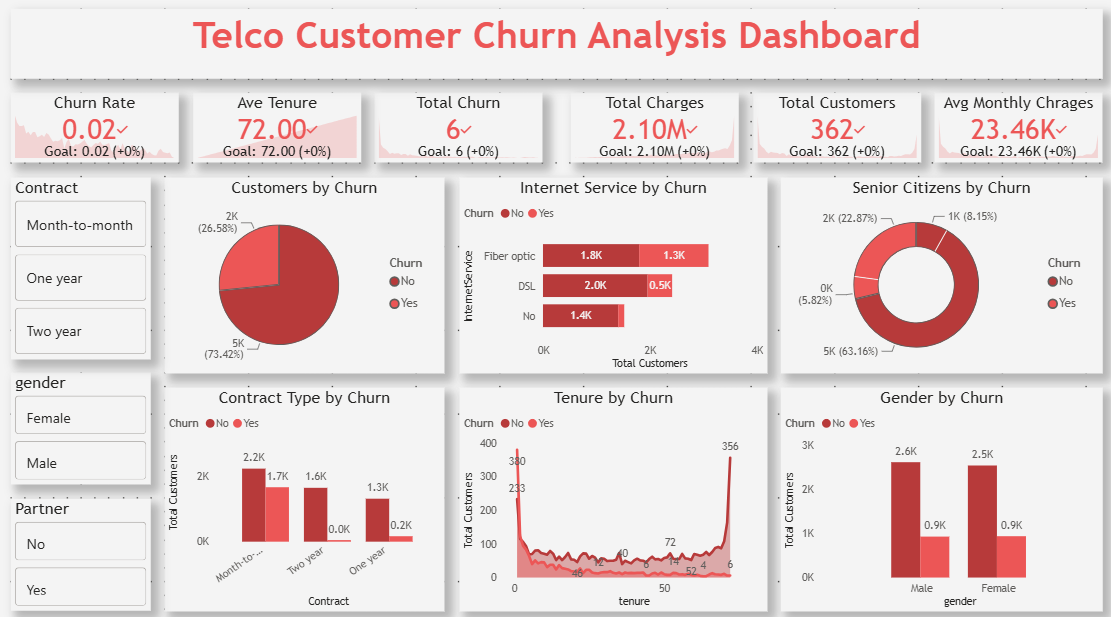

Layout of this report page (visuals, bound fields, positions):
{"tool":"powerbi","page":{"name":"Page 1","canvas":[1280,720],"ordinal":0},"visuals":[{"type":"kpi","title":"Total Customers","fields":{"Indicator":["cleaned_churn_data.Total Customers"],"TrendLine":["cleaned_churn_data.tenure"],"Goal":["cleaned_churn_data.Total Customers"]},"box":[864,112,192,80],"z":0},{"type":"kpi","title":"Total Churn","fields":{"TrendLine":["cleaned_churn_data.tenure"],"Indicator":["cleaned_churn_data.Total Churn"],"Goal":["cleaned_churn_data.Total Churn"]},"box":[432,112,192,80],"z":1},{"type":"kpi","title":"Churn Rate","fields":{"TrendLine":["cleaned_churn_data.tenure"],"Indicator":["cleaned_churn_data.Churn Rate"],"Goal":["cleaned_churn_data.Churn Rate"]},"box":[16,112,192,80],"z":2},{"type":"kpi","title":"Avg Monthly Chrages","fields":{"TrendLine":["cleaned_churn_data.tenure"],"Indicator":["Sum(cleaned_churn_data.Average Monthly Charges)"],"Goal":["Sum(cleaned_churn_data.Average Monthly Charges)"]},"box":[1072,112,192,80],"z":3},{"type":"kpi","title":"Ave Tenure","fields":{"TrendLine":["cleaned_churn_data.tenure"],"Indicator":["cleaned_churn_data.Average Tenure"],"Goal":["cleaned_churn_data.Average Tenure"]},"box":[224,112,192,80],"z":4},{"type":"kpi","title":"Total Charges","fields":{"TrendLine":["cleaned_churn_data.tenure"],"Indicator":["Sum(cleaned_churn_data.TotalCharges)"],"Goal":["Sum(cleaned_churn_data.TotalCharges)"]},"box":[656,112,192,80],"z":5},{"type":"pieChart","title":"Customers by Churn","fields":{"Category":["cleaned_churn_data.Churn"],"Y":["cleaned_churn_data.Total Customers"]},"box":[192,208,320,224],"z":6},{"type":"clusteredColumnChart","title":"Contract Type by Churn","fields":{"Category":["cleaned_churn_data.Contract"],"Y":["cleaned_churn_data.Total Customers"],"Series":["cleaned_churn_data.Churn"]},"box":[192,448,320,256],"z":7},{"type":"barChart","title":"Internet Service by Churn","fields":{"Category":["cleaned_churn_data.InternetService"],"Y":["cleaned_churn_data.Total Customers"],"Series":["cleaned_churn_data.Churn"]},"box":[528,208,352,224],"z":8},{"type":"lineChart","title":"Tenure by Churn","fields":{"Category":["cleaned_churn_data.tenure"],"Y":["cleaned_churn_data.Total Customers"],"Series":["cleaned_churn_data.Churn"]},"box":[528,448,352,256],"z":9},{"type":"donutChart","title":"Senior Citizens by Churn","fields":{"Y":["Sum(cleaned_churn_data.SeniorCitizen)","cleaned_churn_data.Total Customers"],"Category":["cleaned_churn_data.Churn"]},"box":[896,208,368,224],"z":10},{"type":"clusteredColumnChart","title":"Gender by Churn","fields":{"Category":["cleaned_churn_data.gender"],"Y":["cleaned_churn_data.Total Customers"],"Series":["cleaned_churn_data.Churn"]},"box":[896,448,368,256],"z":11},{"type":"advancedSlicerVisual","fields":{"Values":["cleaned_churn_data.gender"]},"box":[16,432,160,128],"z":12},{"type":"advancedSlicerVisual","fields":{"Values":["cleaned_churn_data.Contract"]},"box":[16,208,160,208],"z":13},{"type":"advancedSlicerVisual","fields":{"Values":["cleaned_churn_data.Partner"]},"box":[16,576,160,128],"z":15},{"type":"textbox","box":[16,16,1248,80],"z":16}]}

Visuals, with their boxes in screenshot pixels (x1, y1, x2, y2), scaled from the page's 1280x720 canvas onto the 1111x617 screenshot:
"Total Customers" kpi: 750 96 917 165
"Total Churn" kpi: 375 96 542 165
"Churn Rate" kpi: 14 96 181 165
"Avg Monthly Chrages" kpi: 930 96 1097 165
"Ave Tenure" kpi: 194 96 361 165
"Total Charges" kpi: 569 96 736 165
"Customers by Churn" pieChart: 167 178 444 370
"Contract Type by Churn" clusteredColumnChart: 167 384 444 603
"Internet Service by Churn" barChart: 458 178 764 370
"Tenure by Churn" lineChart: 458 384 764 603
"Senior Citizens by Churn" donutChart: 778 178 1097 370
"Gender by Churn" clusteredColumnChart: 778 384 1097 603
advancedSlicerVisual - cleaned_churn_data.gender: 14 370 153 480
advancedSlicerVisual - cleaned_churn_data.Contract: 14 178 153 356
advancedSlicerVisual - cleaned_churn_data.Partner: 14 494 153 603
textbox: 14 14 1097 82
